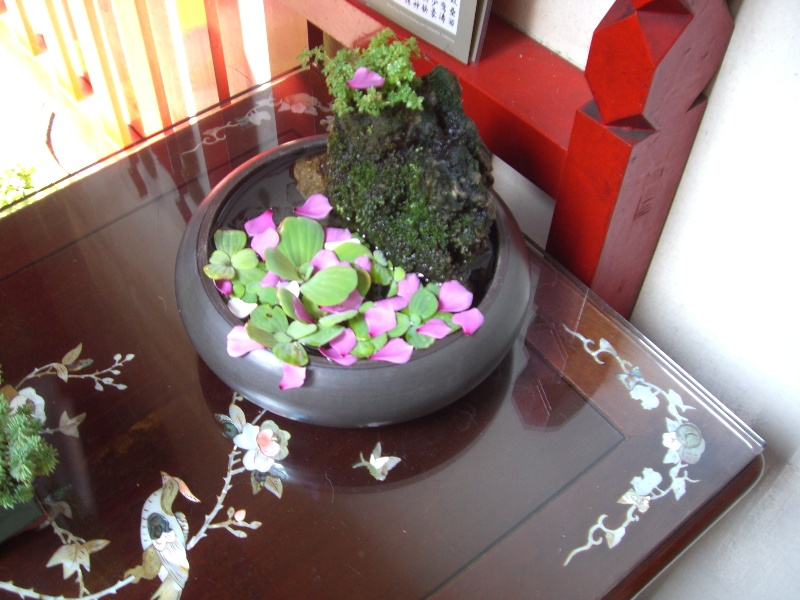bowl: (174, 132, 531, 430)
